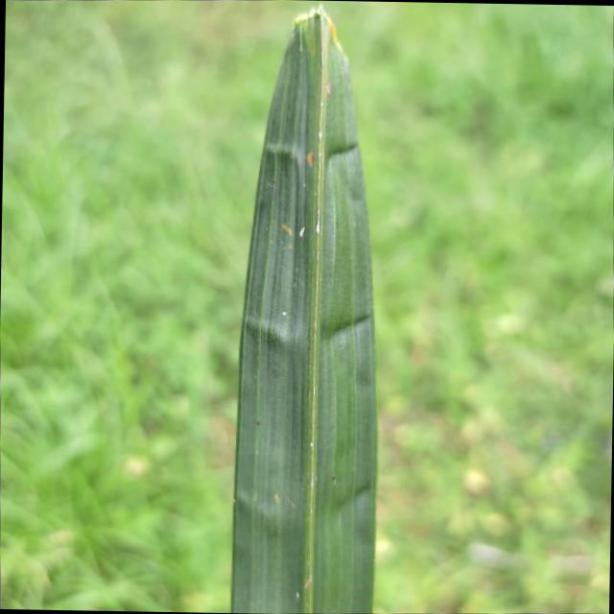Boron: (232, 0, 379, 614)
